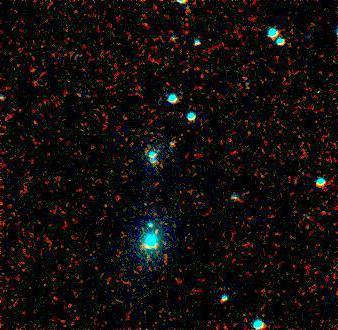star: (157, 129, 187, 159)
